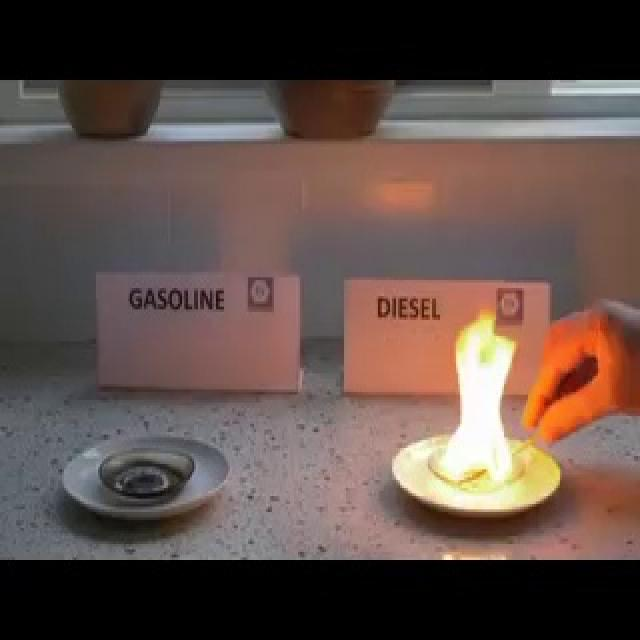fire: (435, 300, 525, 488)
